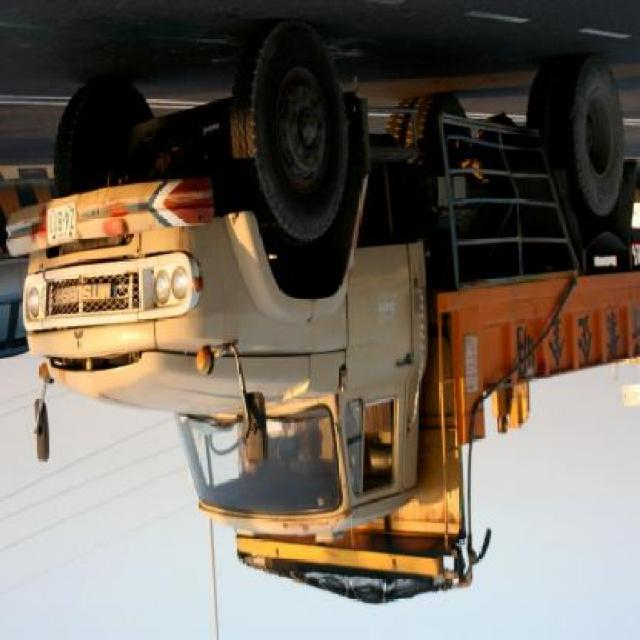truck: (6, 33, 640, 610)
